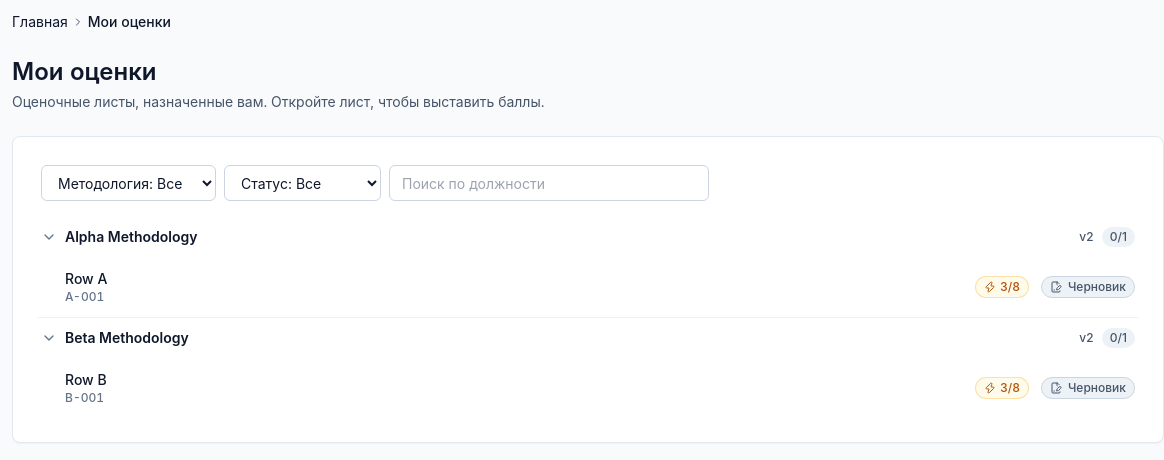
<MyEvaluationsPage /> (Feature 1 + Part 4) › methodology filter narrows visible rows to the selected methodology
Check: the link with test id "open-my-evaluation-eval-m1" is shown, box [65, 270, 1135, 304]
Check: the link with test id "open-my-evaluation-eval-m2" is shown, box [65, 371, 1135, 405]
// Apply methodology filter: select meth-A
Select "Alpha Methodology" in the dropdown with test id "my-evaluations-filter-methodology" at (128, 183), box [41, 165, 216, 201]
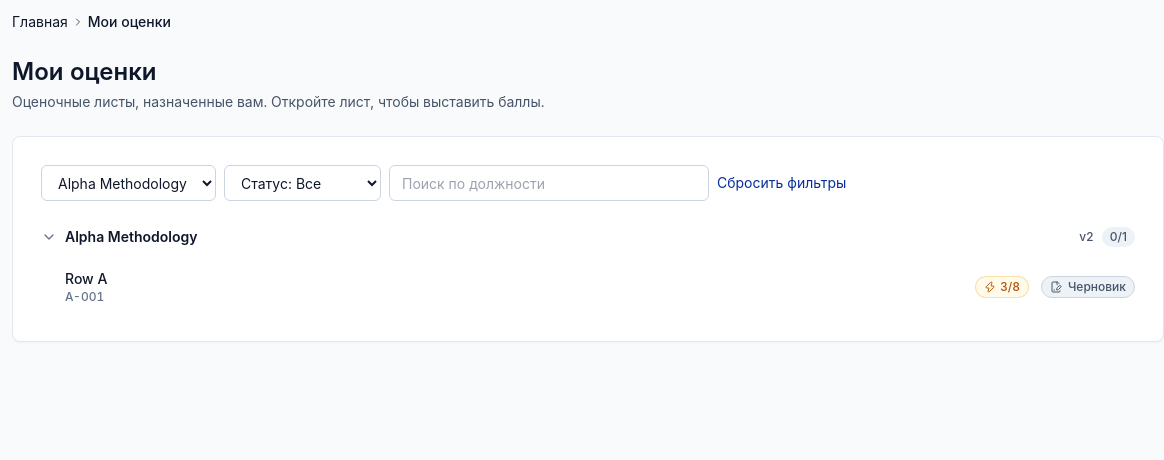
Check: the link with test id "open-my-evaluation-eval-m1" is shown, box [65, 270, 1135, 304]
Check: the link with test id "open-my-evaluation-eval-m2" is gone
